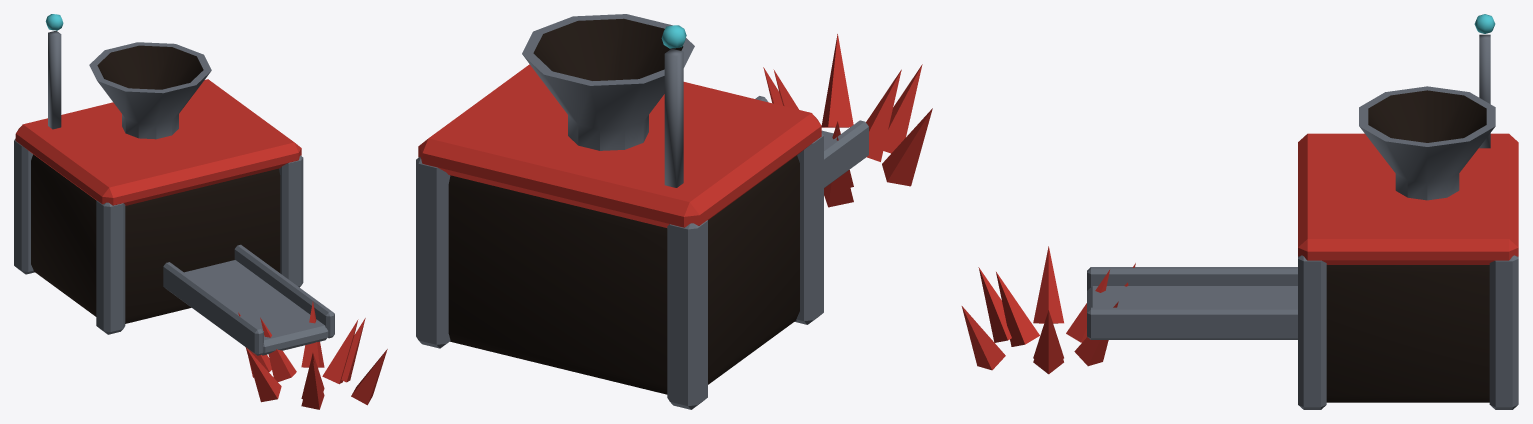
The picture shows the model from 3 angles, left to right: view 1: azimuth 30°, elevation 25°; view 2: azimuth 150°, elevation 25°; view 3: azimuth 270°, elevation 25°; orthographic projection. The views are drawn at different scales.
Visible parts, largest first — view 1: espinhos_0_base; view 2: espinhos_0_base; view 3: espinhos_0_base.
Part boxes in pixels (left/top/right/bottom): espinhos_0_base: left=14, top=14, right=387, bottom=409; espinhos_0_base: left=416, top=14, right=932, bottom=409; espinhos_0_base: left=961, top=14, right=1518, bottom=409.
Bounding box in the file's own units: 0.56 × 0.6918 × 1.16.
